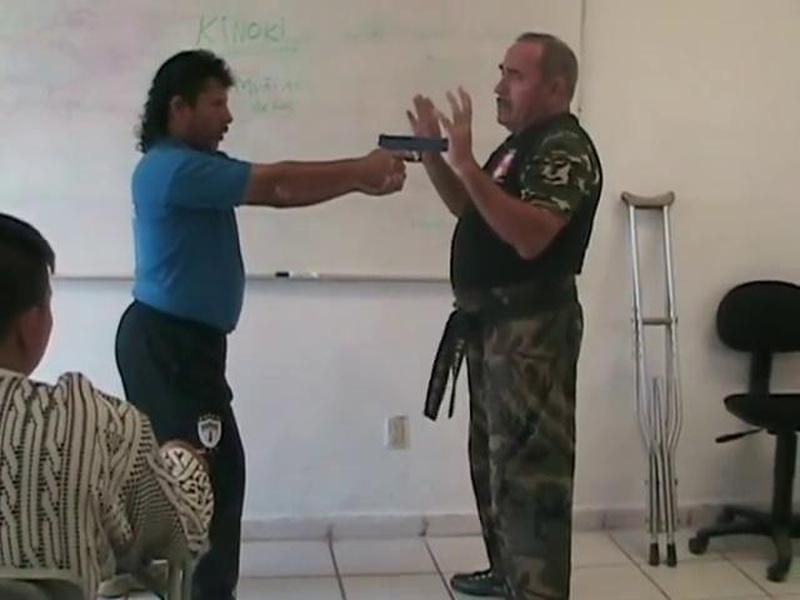Pistola: (354, 132, 463, 196)
